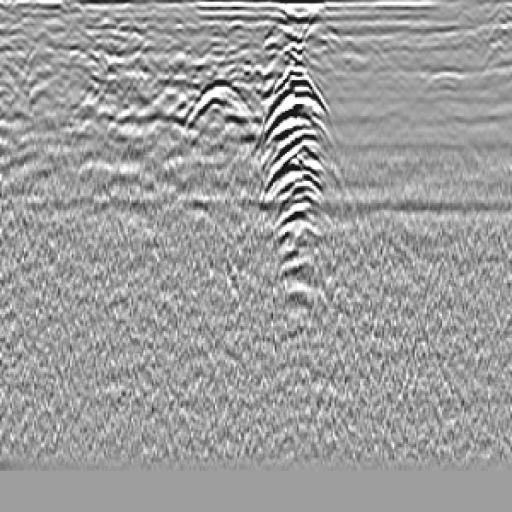metalic: (253, 52, 341, 264)
nonmetalic: (185, 73, 259, 146)
